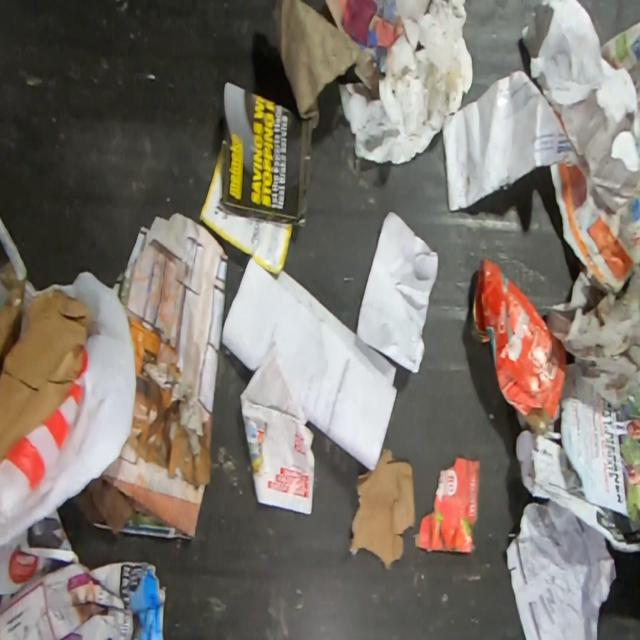cardboard: (0, 258, 95, 466), (470, 256, 568, 435)
soft_plastic: (0, 215, 138, 550)
